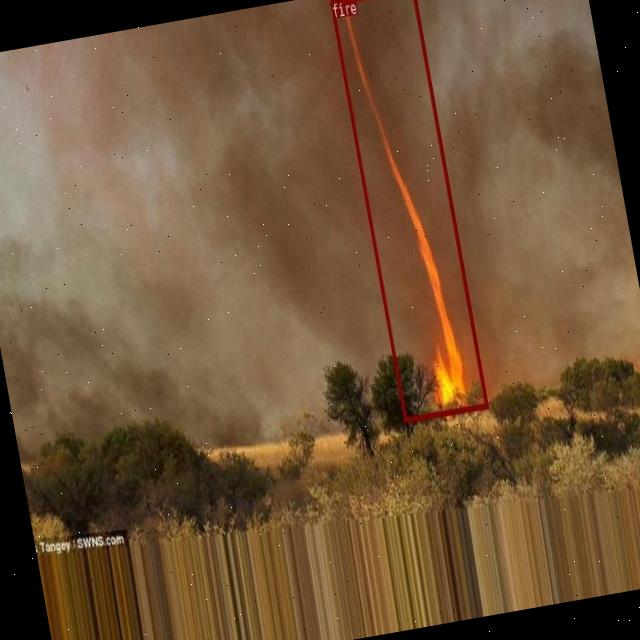fire: (329, 0, 486, 422)
